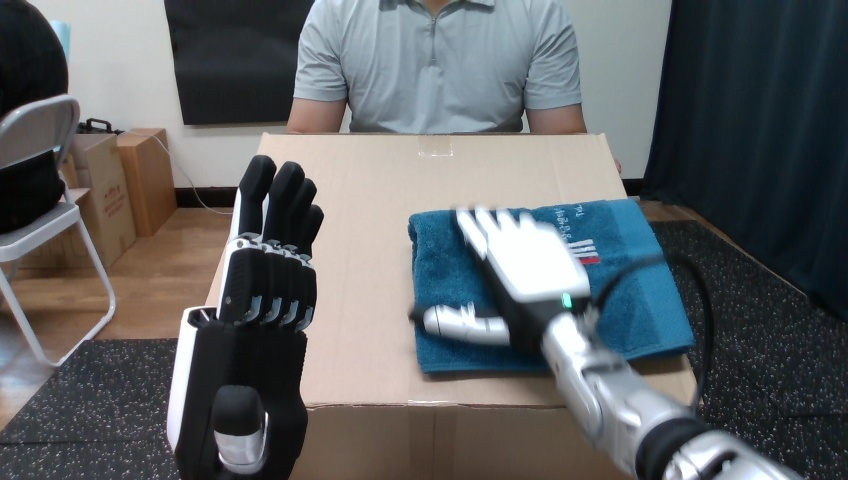left robot hand: (410, 206, 800, 479), (167, 155, 322, 478)
